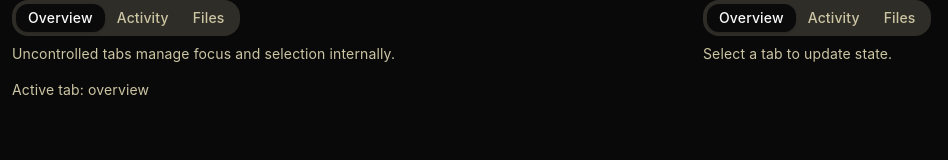
Test: TabsExamples › moves selection with arrow keys
The image size is (948, 160).
Click the 2nd tab "Overview". click: (751, 18)
box: [707, 4, 796, 32]
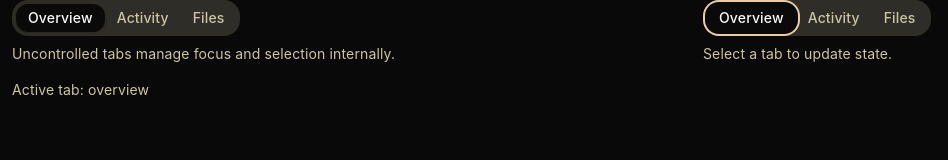
Press Arrowright
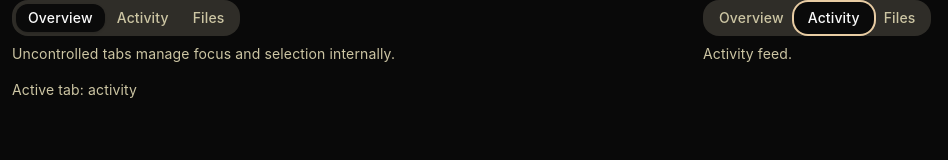
Expected: the text with test id "tabs-value" shows "activity", [88, 81, 137, 98]
